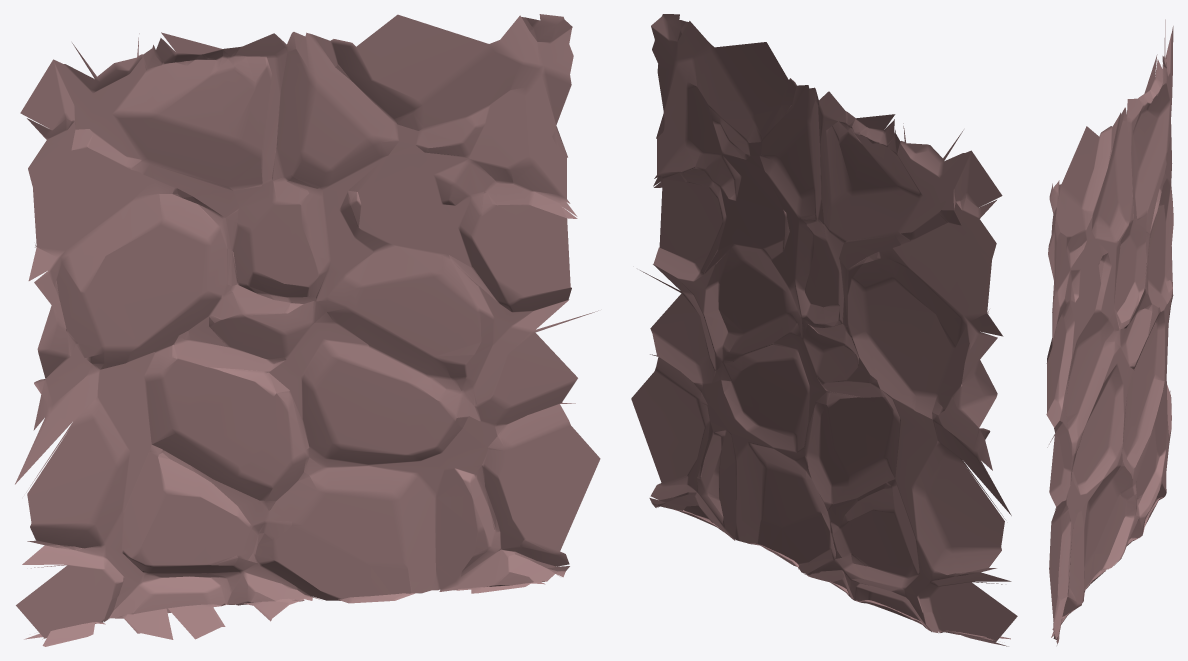
File: plateau.fbx_Rock_Plateau_041LODs.fbx
3 views of the same model, side by side, from view 1: azimuth 30°, elevation 25°; view 2: azimuth 150°, elevation 25°; view 3: azimuth 270°, elevation 25° (orthographic). The views are drawn at different scales.
Parts seen in each view (by area): view 1: Rock Plateau.041_LOD0; view 2: Rock Plateau.041_LOD0; view 3: Rock Plateau.041_LOD0.
Boxes of the visible parts, x1,y1,x2,y2 form: Rock Plateau.041_LOD0: [15, 14, 600, 646]; Rock Plateau.041_LOD0: [631, 14, 1017, 646]; Rock Plateau.041_LOD0: [1046, 19, 1173, 644].
Size of what is drawn, in the model's own units: 3767 by 4142 by 1020.
